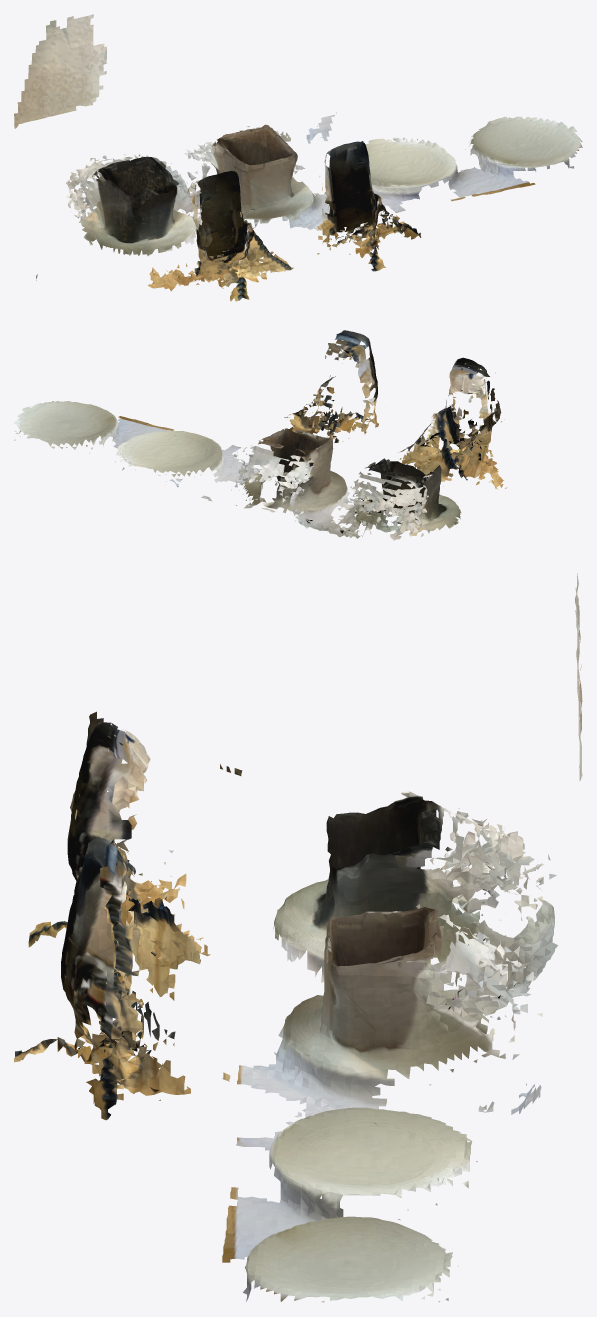
The model's file is gurksetup.glb.
3 renders of one model, top to bottom at view 1: azimuth 30°, elevation 25°; view 2: azimuth 150°, elevation 25°; view 3: azimuth 270°, elevation 25°, orthographic. The views are drawn at different scales.
Size of the model in its own units: 1.09 by 0.343 by 0.508.
1 material, 1 textured.
